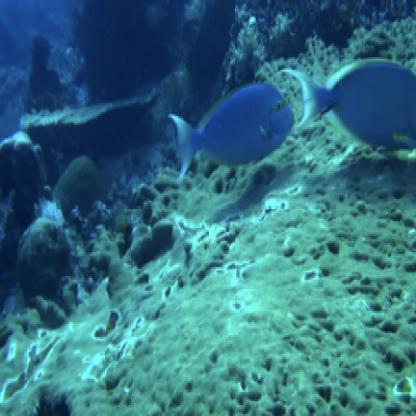surgeon: (167, 80, 299, 183), (274, 58, 416, 150)
